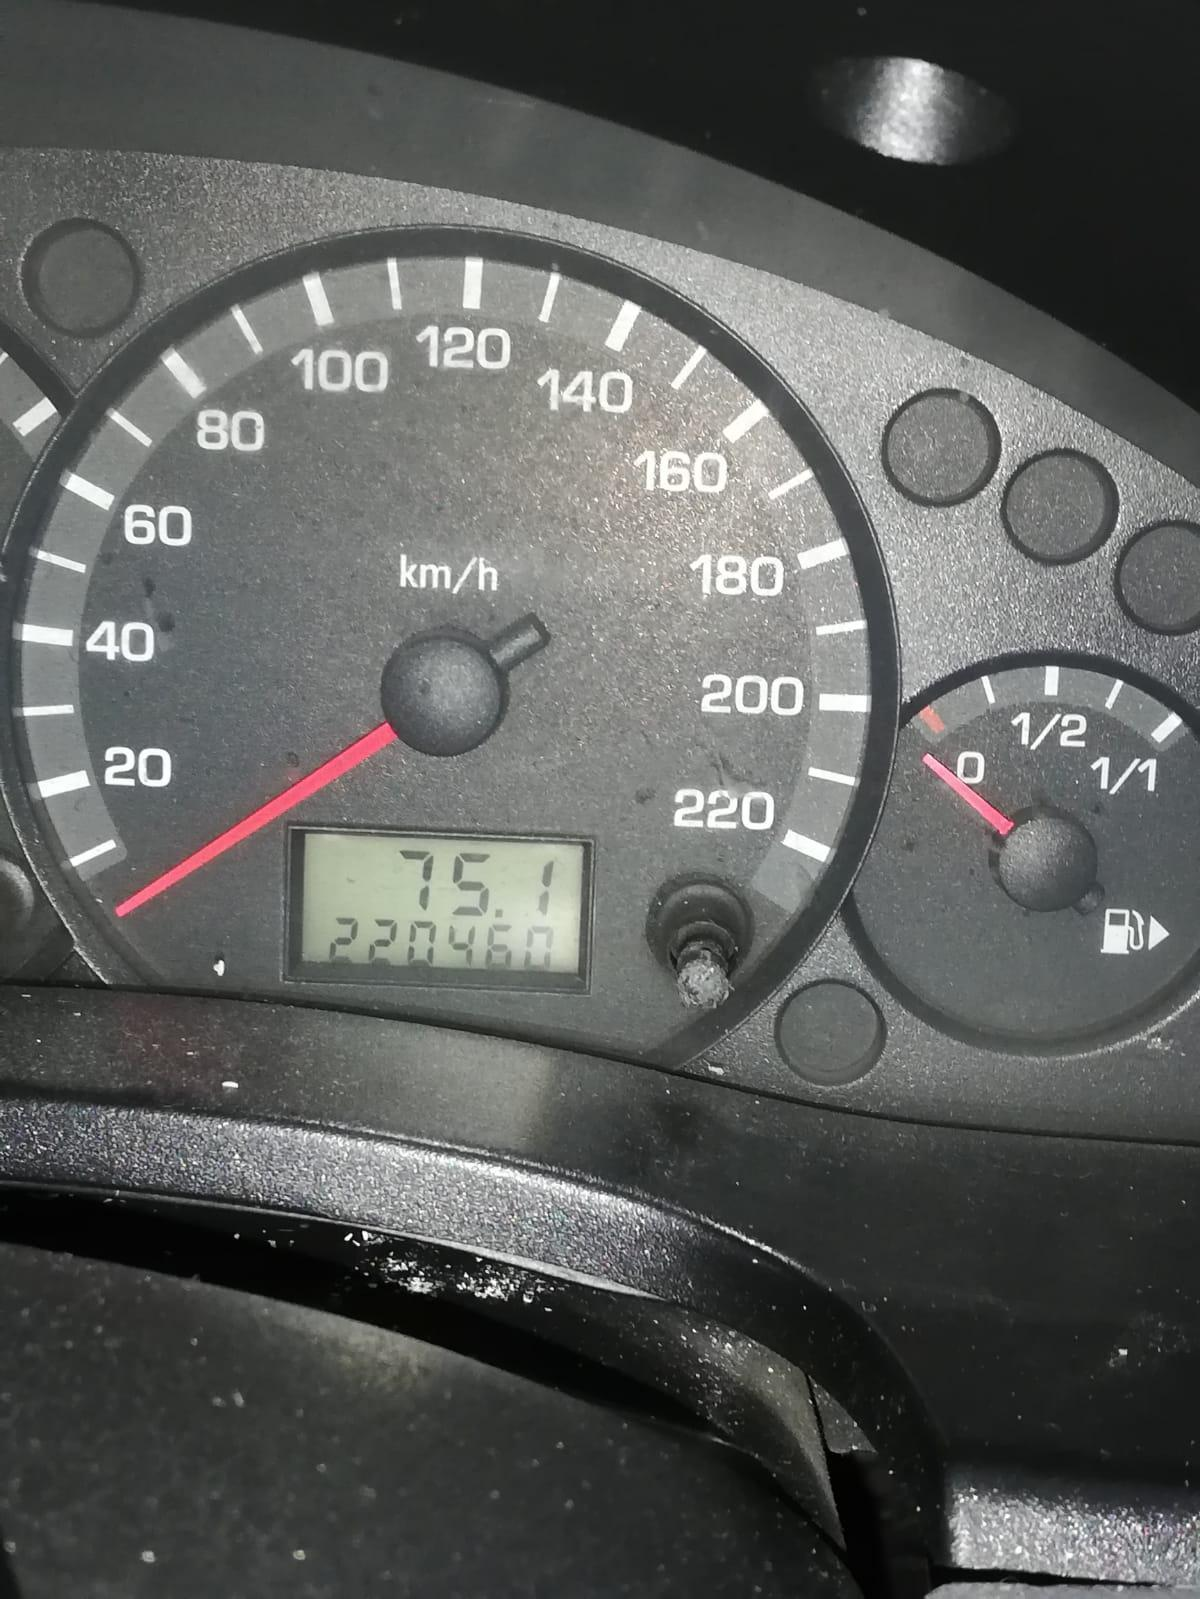,: (494, 907, 505, 920)
0: (406, 920, 437, 966), (523, 925, 553, 971)
1: (536, 859, 555, 917)
2: (367, 917, 398, 966), (326, 916, 359, 963)
4: (447, 924, 476, 966)
5: (451, 852, 490, 916)
6: (484, 924, 512, 970)
7: (397, 849, 434, 912)
odometer: (275, 819, 600, 999)
